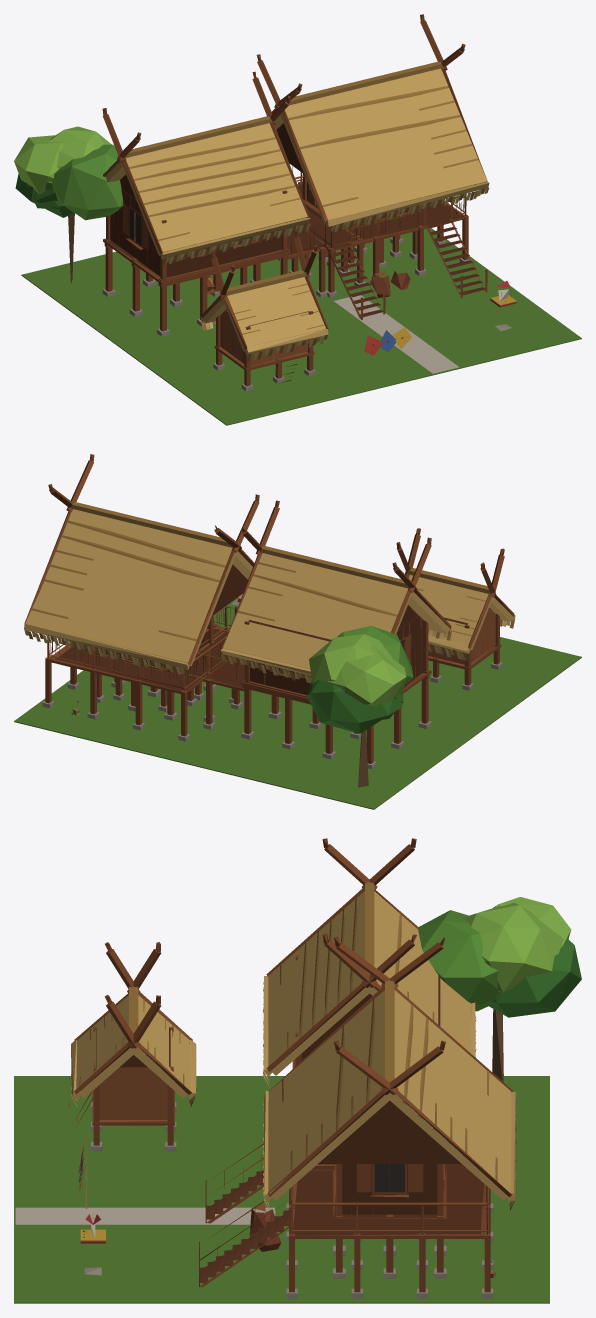
Rendered from home_3.glb.
3 views of the same model, one above another, from view 1: azimuth 30°, elevation 25°; view 2: azimuth 150°, elevation 25°; view 3: azimuth 270°, elevation 25° (orthographic). The views are drawn at different scales.
Parts seen in each view (by area): view 1: body; view 2: body; view 3: body, windows.
Part boxes in pixels (x1=…): body: x1=14, y1=14, x2=581, y2=425; body: x1=14, y1=454, x2=581, y2=809; body: x1=14, y1=838, x2=581, y2=1303; windows: x1=374, y1=1164, x2=404, y2=1192.
Size of the model in its own units: 16.85 by 8.89 by 16.85.
